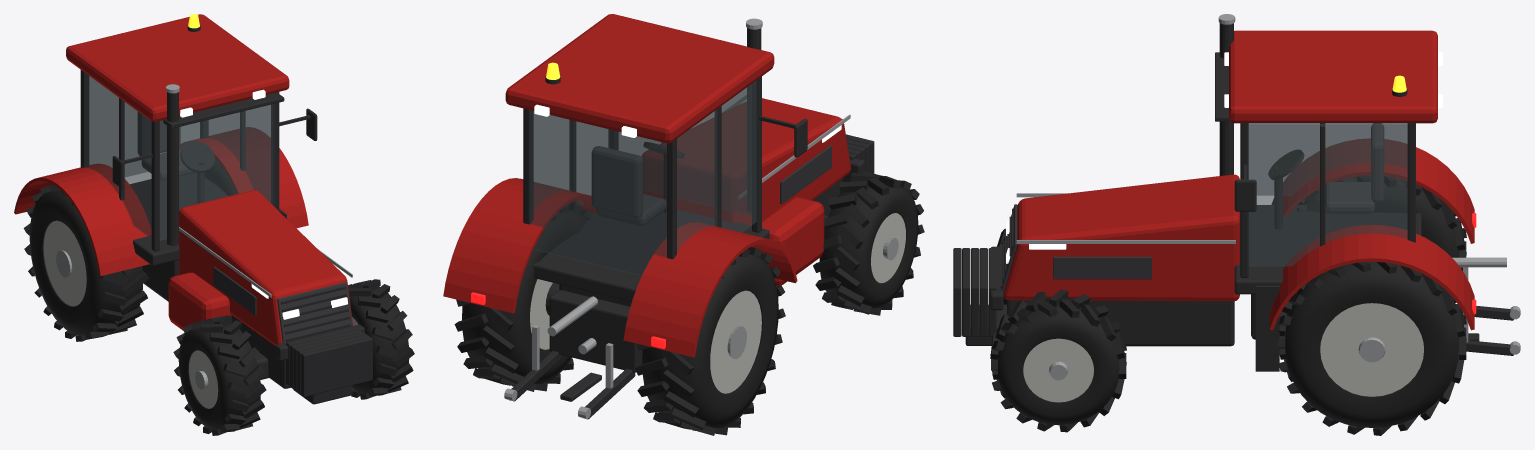
The model's file is tractor.glb.
3 renders of one model, left to right at view 1: azimuth 30°, elevation 25°; view 2: azimuth 150°, elevation 25°; view 3: azimuth 270°, elevation 25°, orthographic. The views are drawn at different scales.
Parts seen in each view (by area): view 1: carroceria, vidrios, rueda_td, rueda_dd, rueda_di, rueda_ti; view 2: carroceria, vidrios, rueda_td, rueda_dd, rueda_ti, tripuntal, brazos_tripuntal; view 3: carroceria, rueda_ti, vidrios, rueda_di, rueda_td, brazos_tripuntal.
Part boxes in pixels (<box>): carroceria: <box>14,14,372,404</box>; vidrios: <box>85,73,274,240</box>; rueda_td: <box>23,184,149,341</box>; rueda_dd: <box>173,315,266,435</box>; rueda_di: <box>348,279,414,399</box>; rueda_ti: <box>204,158,236,195</box>; carroceria: <box>443,14,874,357</box>; vidrios: <box>529,80,756,275</box>; rueda_td: <box>635,247,785,435</box>; rueda_dd: <box>813,171,924,315</box>; rueda_ti: <box>454,203,592,391</box>; tripuntal: <box>549,290,642,401</box>; brazos_tripuntal: <box>504,296,635,419</box>; carroceria: <box>953,14,1474,371</box>; rueda_ti: <box>1278,261,1466,435</box>; vidrios: <box>1248,123,1407,266</box>; rueda_di: <box>990,289,1126,432</box>; rueda_td: <box>1297,175,1466,270</box>; brazos_tripuntal: <box>1452,257,1520,355</box>.
Bounding box in the file's own units: 2.58 × 3.35 × 5.16.
